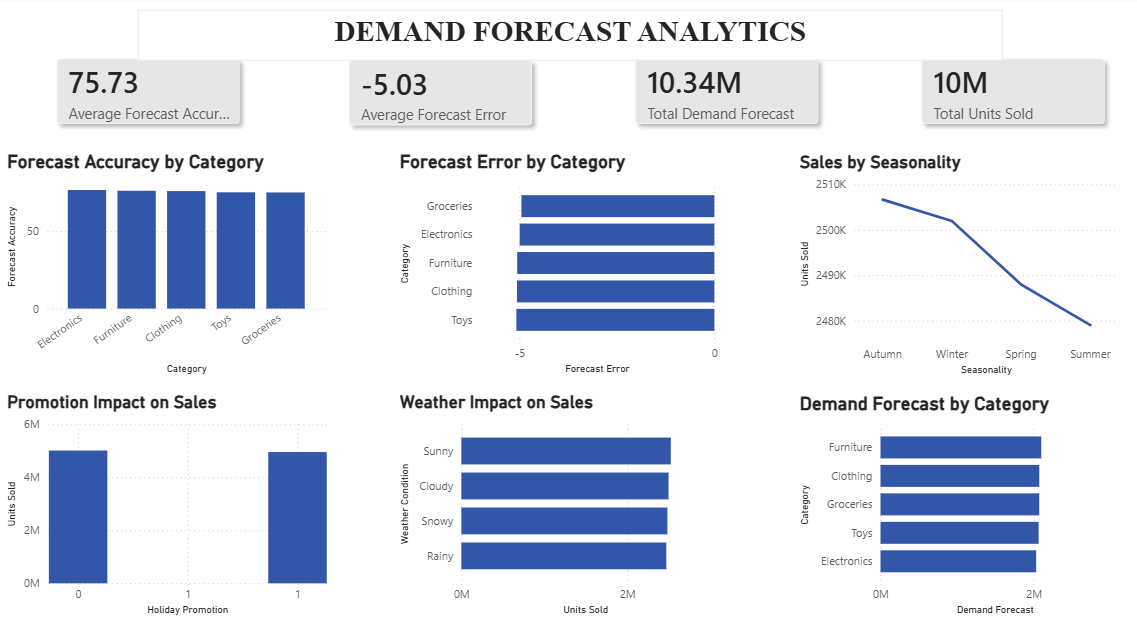

Layout of this report page (visuals, bound fields, positions):
{"tool":"powerbi","page":{"name":"Demand Forecast Analytics","canvas":[1280,720],"ordinal":2},"visuals":[{"type":"cardVisual","fields":{"Data":["Avg(dashboard_dataset.forecast_accuracy)"]},"box":[39.8,39.8,259.3,130.4],"z":0},{"type":"cardVisual","fields":{"Data":["Avg(dashboard_dataset.forecast_error)"]},"box":[360.9,41.2,259.3,130.4],"z":1000},{"type":"cardVisual","fields":{"Data":["Sum(dashboard_dataset.demand_forecast)"]},"box":[675.1,39.8,259.3,130.4],"z":2000},{"type":"cardVisual","fields":{"Data":["Sum(dashboard_dataset.units_sold)"]},"box":[989.4,39.8,259.3,130.4],"z":3000},{"type":"clusteredColumnChart","title":"Forecast Accuracy by Category","fields":{"Category":["dashboard_dataset.category"],"Y":["Avg(dashboard_dataset.forecast_accuracy)"]},"box":[9.6,170.2,360,250],"z":4000},{"type":"clusteredBarChart","title":"Forecast Error by Category","fields":{"Category":["dashboard_dataset.category"],"Y":["Avg(dashboard_dataset.forecast_error)"]},"box":[440.5,170.2,359.5,249.7],"z":5000},{"type":"lineChart","title":"Sales by Seasonality","fields":{"Category":["dashboard_dataset.seasonality"],"Y":["Sum(dashboard_dataset.units_sold)"]},"box":[879.6,171.5,359.5,249.7],"z":6000},{"type":"clusteredColumnChart","title":"Promotion Impact on Sales","fields":{"Category":["dashboard_dataset.holiday_promotion"],"Y":["Sum(dashboard_dataset.units_sold)"]},"box":[9.6,435,360.9,249.7],"z":7000},{"type":"textbox","box":[157.8,15.1,949.6,56.3],"z":8000},{"type":"clusteredBarChart","title":"Weather Impact on Sales","fields":{"Y":["Sum(dashboard_dataset.units_sold)"],"Category":["dashboard_dataset.weather_condition"]},"box":[440,435,360,250],"z":9000},{"type":"clusteredBarChart","title":"Demand Forecast by Category","fields":{"Category":["dashboard_dataset.category"],"Y":["Sum(dashboard_dataset.demand_forecast)"]},"box":[880,435,360,250],"z":10000}]}

Visuals, with their boxes in screenshot pixels (x1, y1, x2, y2), scaled from the page's 1280x720 canvas onto the 1137x627 screenshot:
cardVisual - Avg(dashboard_dataset.forecast_accuracy): region(35, 35, 266, 148)
cardVisual - Avg(dashboard_dataset.forecast_error): region(321, 36, 551, 149)
cardVisual - Sum(dashboard_dataset.demand_forecast): region(600, 35, 830, 148)
cardVisual - Sum(dashboard_dataset.units_sold): region(879, 35, 1109, 148)
"Forecast Accuracy by Category" clusteredColumnChart: region(9, 148, 328, 366)
"Forecast Error by Category" clusteredBarChart: region(391, 148, 711, 366)
"Sales by Seasonality" lineChart: region(781, 149, 1101, 367)
"Promotion Impact on Sales" clusteredColumnChart: region(9, 379, 329, 596)
textbox: region(140, 13, 984, 62)
"Weather Impact on Sales" clusteredBarChart: region(391, 379, 711, 597)
"Demand Forecast by Category" clusteredBarChart: region(782, 379, 1101, 597)
